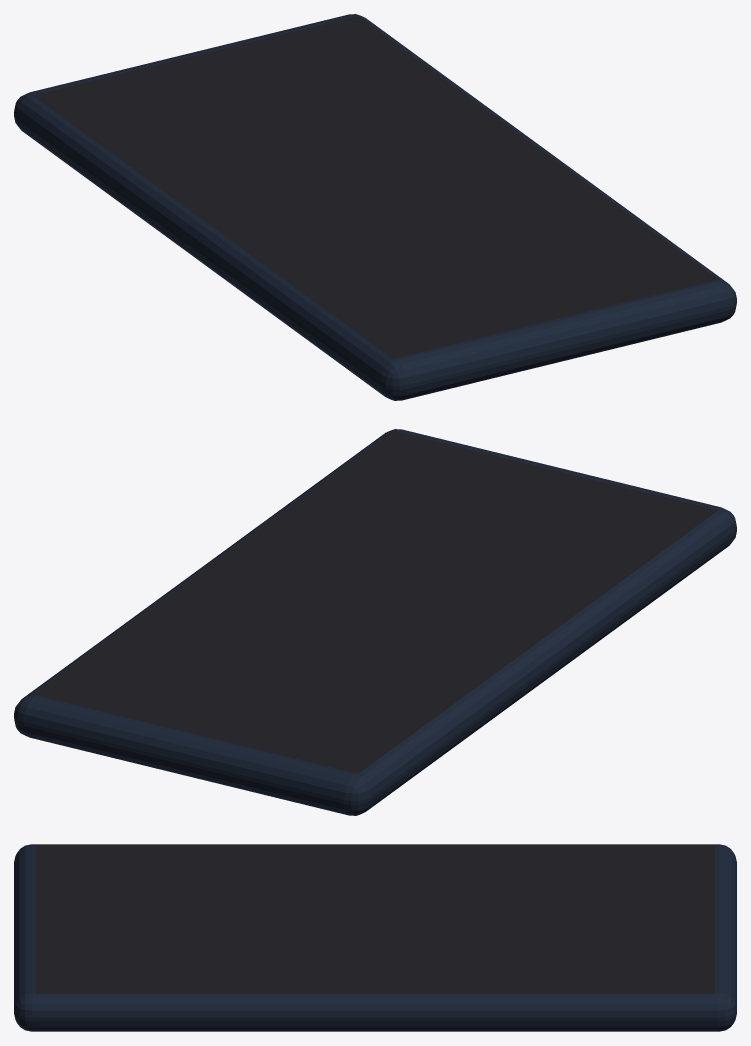
The model's file is Phone_180.glb.
3 renders of one model, top to bottom at view 1: azimuth 30°, elevation 25°; view 2: azimuth 150°, elevation 25°; view 3: azimuth 270°, elevation 25°, orthographic. The views are drawn at different scales.
Visible parts, largest first — view 1: Phone_Screen, Phone_Body; view 2: Phone_Screen, Phone_Body; view 3: Phone_Screen, Phone_Body.
Boxes of the visible parts, box(x1,y1,x2,y2) form: Phone_Screen: box(32, 16, 717, 358); Phone_Body: box(14, 14, 736, 400); Phone_Screen: box(33, 431, 718, 773); Phone_Body: box(14, 429, 736, 815); Phone_Screen: box(35, 844, 715, 993); Phone_Body: box(14, 844, 736, 1031).
Size of the model in its own units: 0.0776 by 0.0083 by 0.1456.
